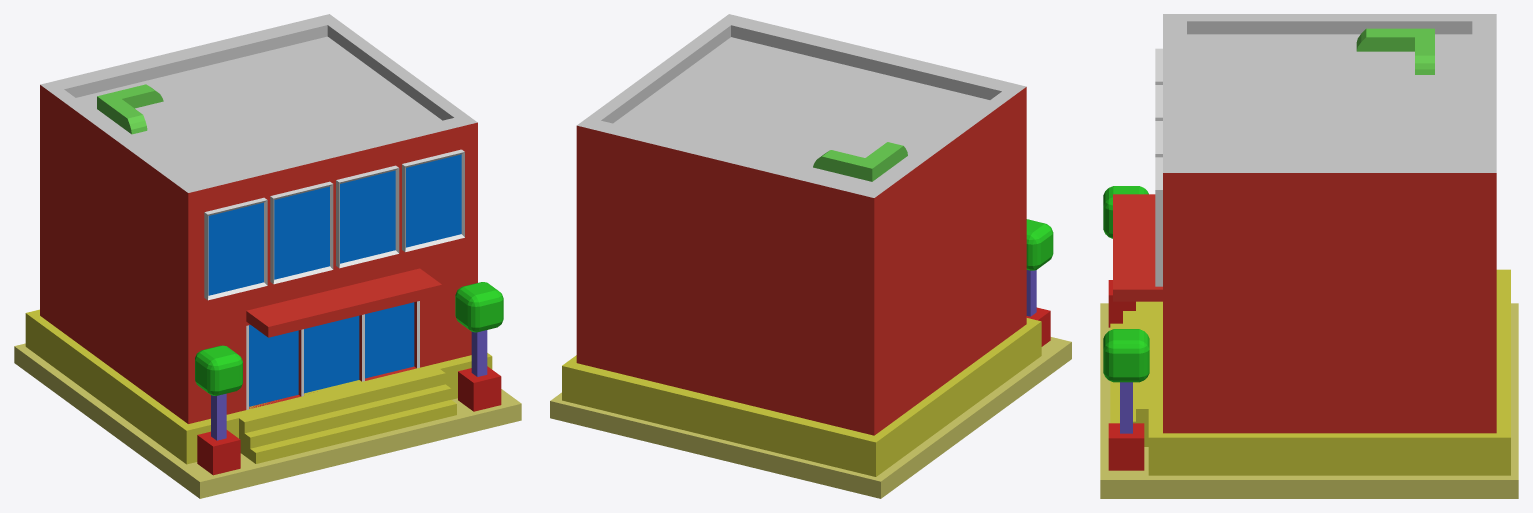
The model's file is Store.fbx.
The picture shows the model from 3 angles, left to right: view 1: azimuth 30°, elevation 25°; view 2: azimuth 150°, elevation 25°; view 3: azimuth 270°, elevation 25°; orthographic projection. The views are drawn at different scales.
Parts seen in each view (by area): view 1: Store; view 2: Store; view 3: Store.
Part boxes in pixels (x1,y1,x2,y2): Store: (14, 14, 521, 498); Store: (550, 14, 1071, 498); Store: (1100, 14, 1518, 498).
Bounding box in the file's own units: 400 × 336 × 400.
